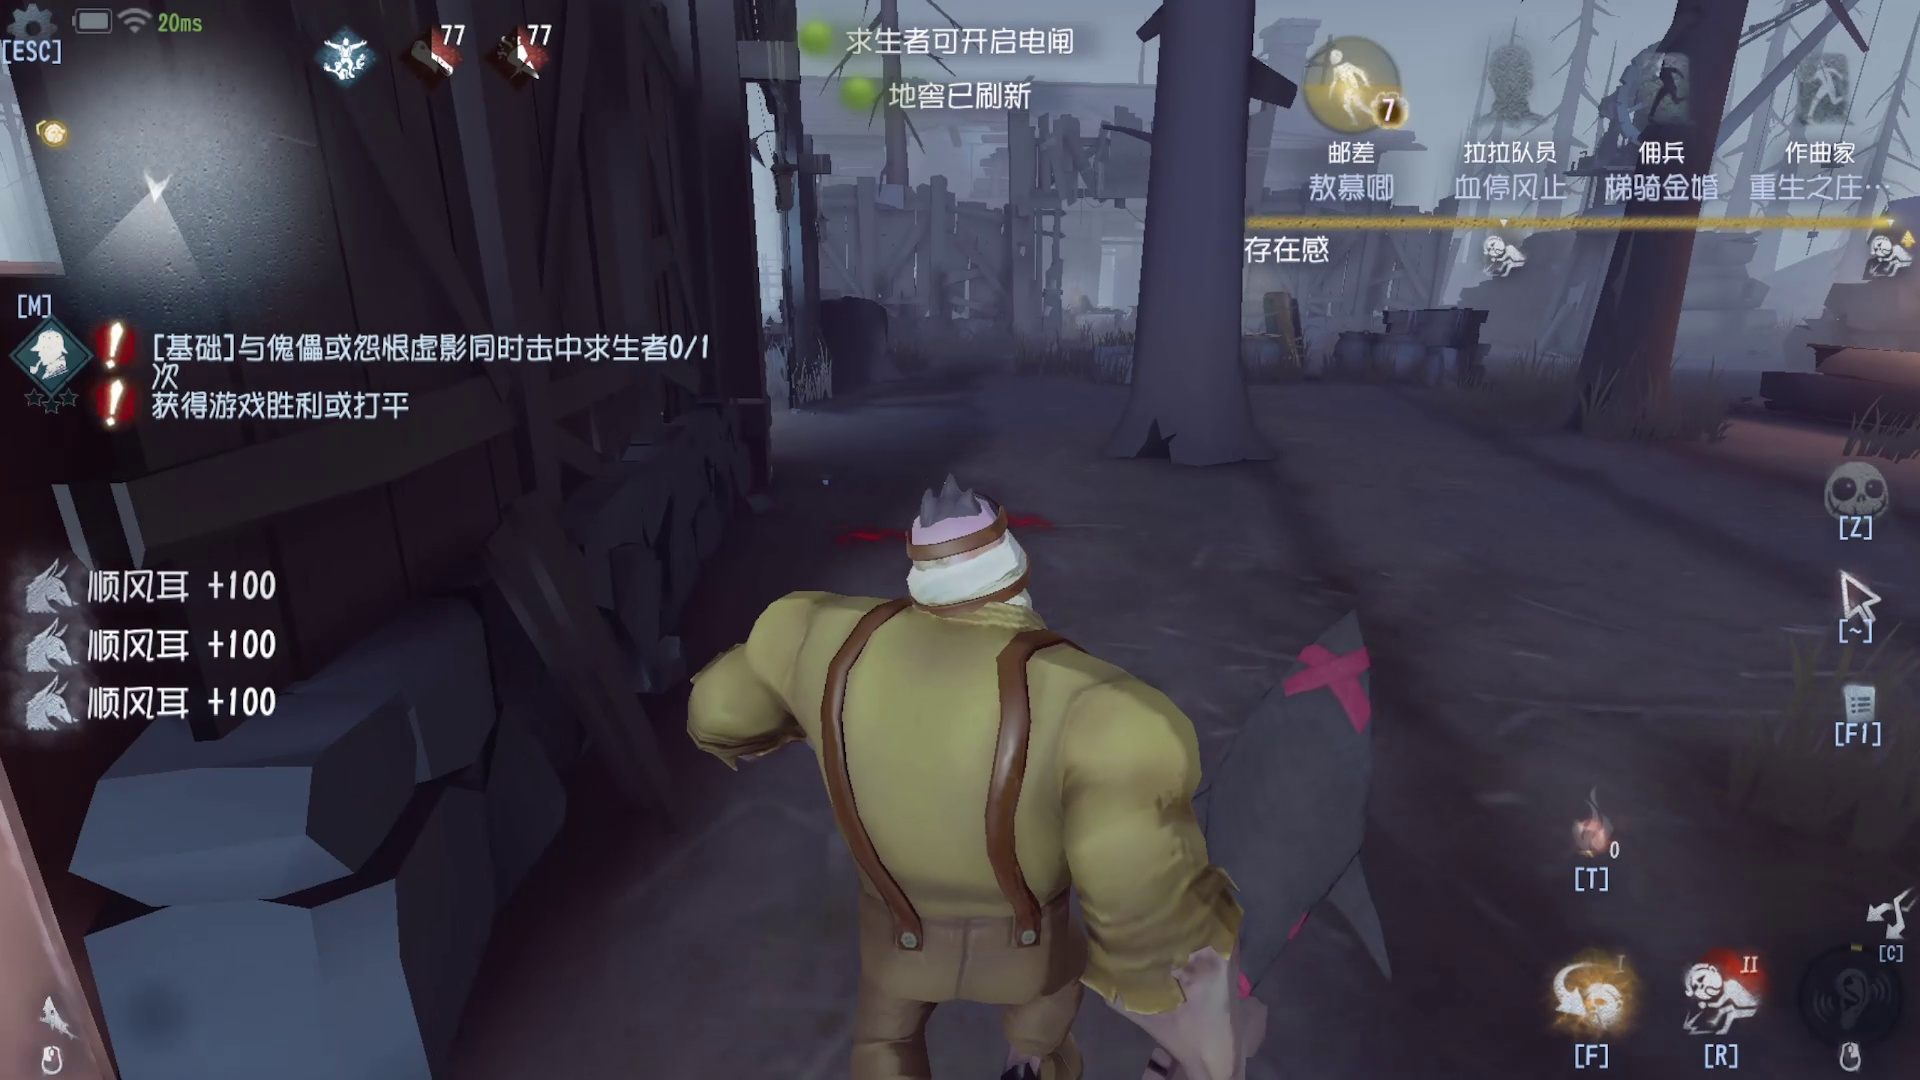木板: (1246, 280, 1344, 394)
设置: (1, 1, 84, 71)
